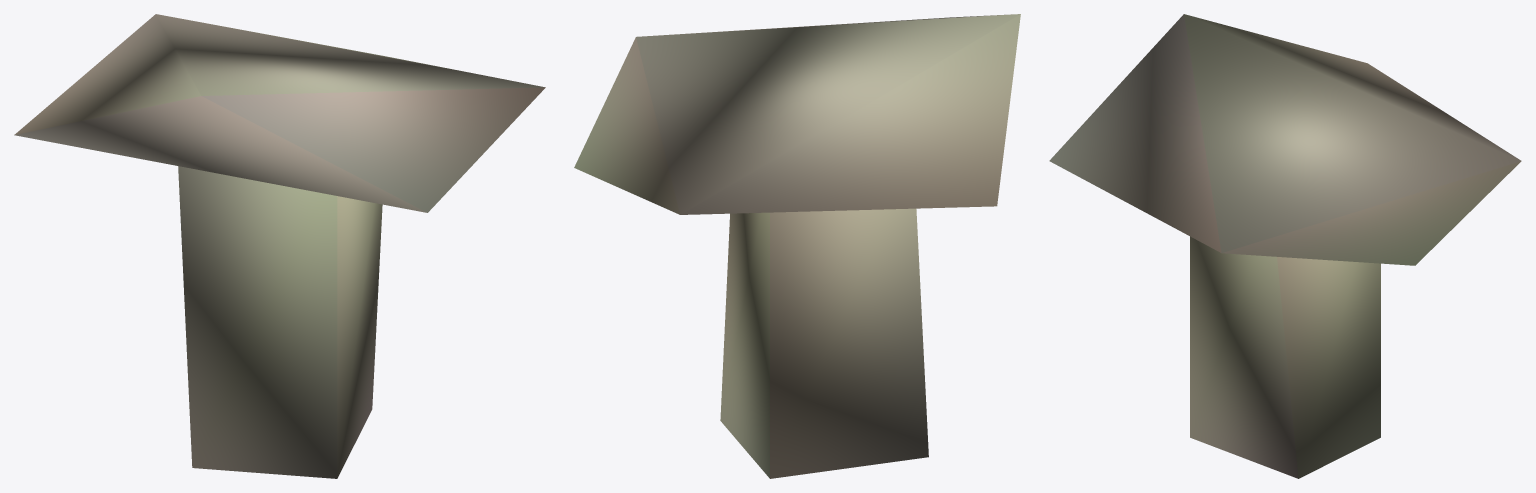
Rendered from mushroom_bk_foret_broceliande_0002.glb.
The picture shows the model from 3 angles, left to right: view 1: azimuth 30°, elevation 25°; view 2: azimuth 150°, elevation 25°; view 3: azimuth 270°, elevation 25°; orthographic projection. The views are drawn at different scales.
Visible parts, largest first — view 1: mushroom_bk_002; view 2: mushroom_bk_002; view 3: mushroom_bk_002.
Boxes of the visible parts, x1,y1,x2,y2 form: mushroom_bk_002: (14,14,545,478); mushroom_bk_002: (574,14,1020,478); mushroom_bk_002: (1049,14,1521,478).
Bounding box in the file's own units: 0.4471 × 0.4 × 0.4701.
